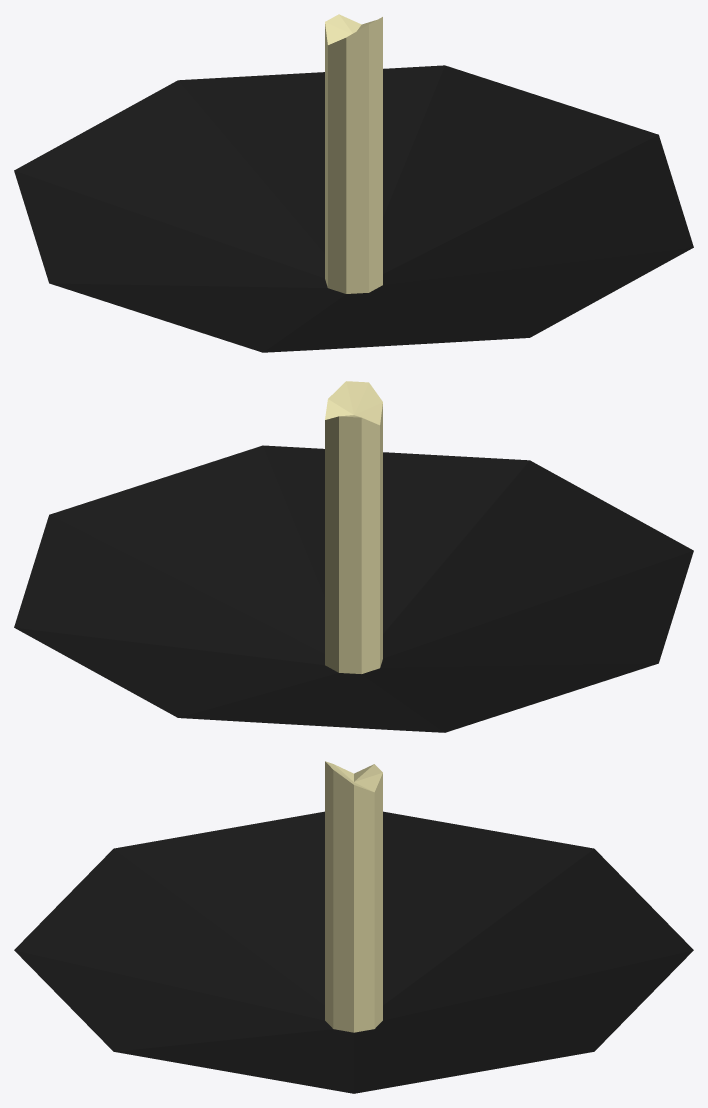
The model's file is CandleWithBase.fbx.
The picture shows the model from 3 angles, top to bottom: view 1: azimuth 30°, elevation 25°; view 2: azimuth 150°, elevation 25°; view 3: azimuth 270°, elevation 25°; orthographic projection. The views are drawn at different scales.
Parts seen in each view (by area): view 1: Cylinder; view 2: Cylinder; view 3: Cylinder.
Part boxes in pixels (bbox=[...]): Cylinder: bbox=[14, 14, 693, 352]; Cylinder: bbox=[14, 381, 693, 732]; Cylinder: bbox=[14, 761, 693, 1093].
Bounding box in the file's own units: 23.38 × 10.09 × 23.38.
